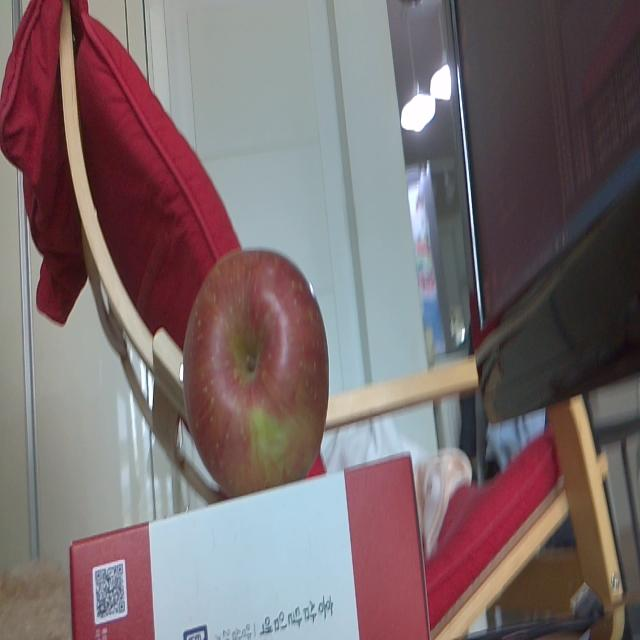apple: (184, 250, 328, 496)
